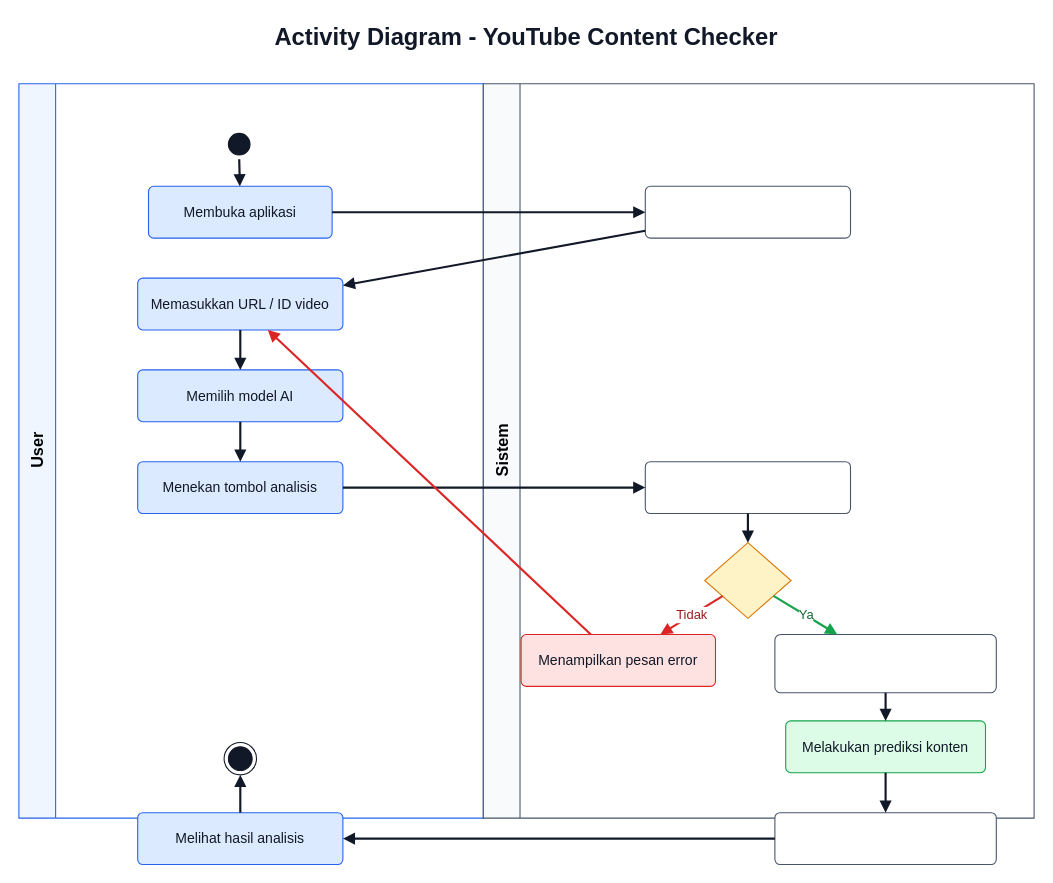
Some shapes in this 1053 by 883 pixel diagram are drawn without their labels. The centre of each missing label's shape, as x and y in pixels:
Memvalidasi URL / ID video: the point at 747,487
Menampilkan daftar model AI: the point at 747,211
Menampilkan hasil deteksi dan analisis: the point at 885,838
Mengambil data video dan memproses teks: the point at 885,663
Valid?: the point at 747,580
